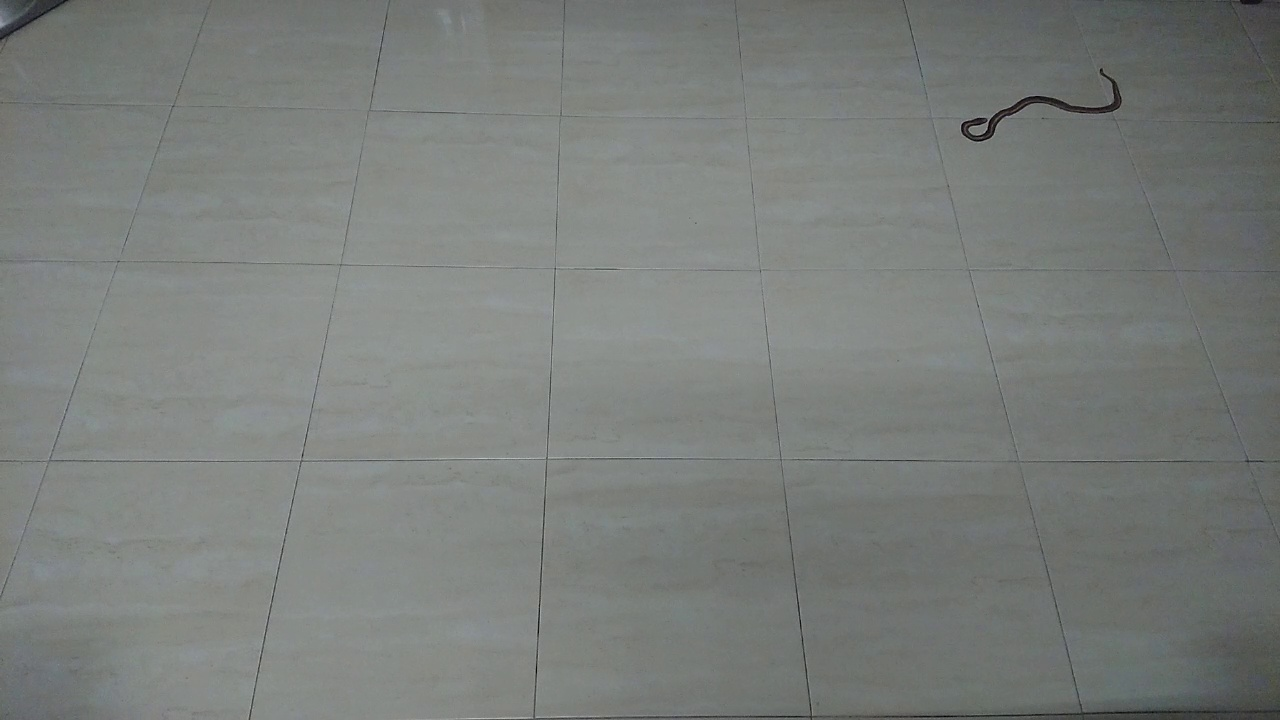snake: (947, 55, 1130, 152)
